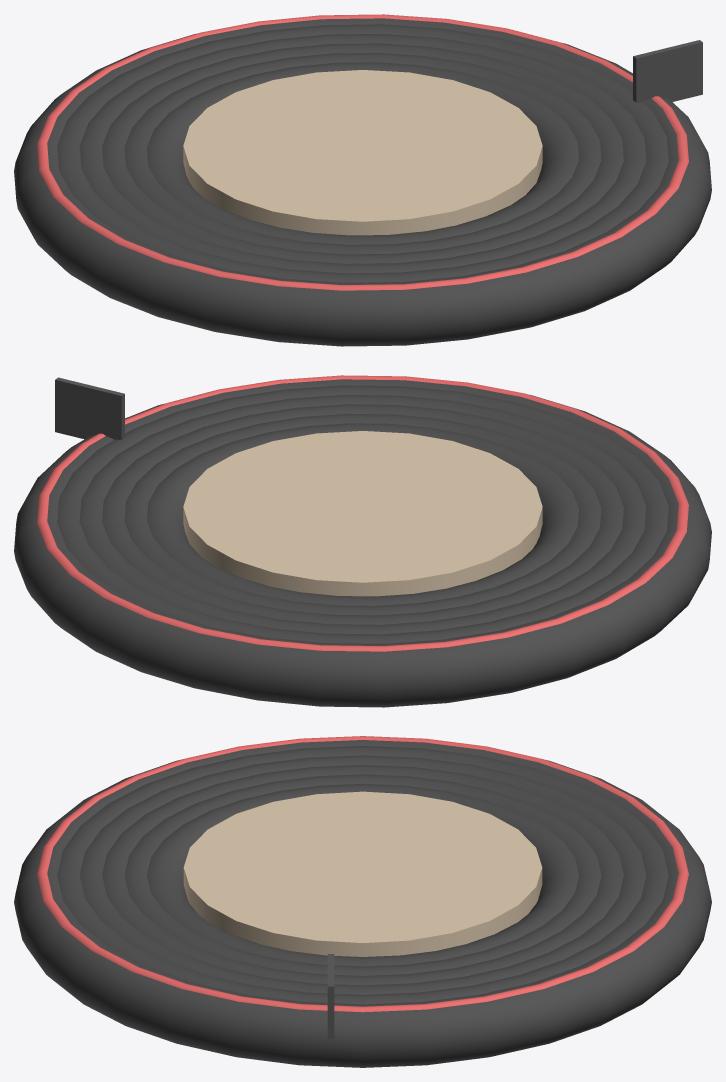
The model's file is isolasi_listrik.glb.
3 renders of one model, top to bottom at view 1: azimuth 30°, elevation 25°; view 2: azimuth 150°, elevation 25°; view 3: azimuth 270°, elevation 25°, orthographic.
Bounding box in the file's own units: 1.12 × 0.185 × 1.09.
